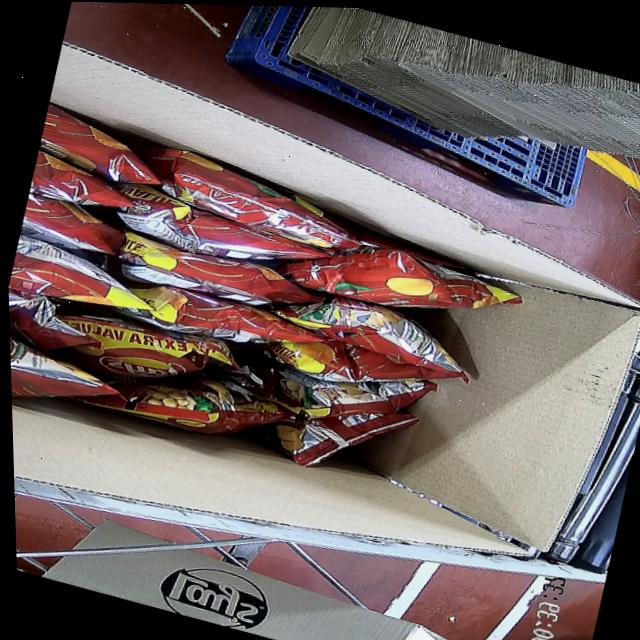MASALA: (3, 96, 545, 530)
